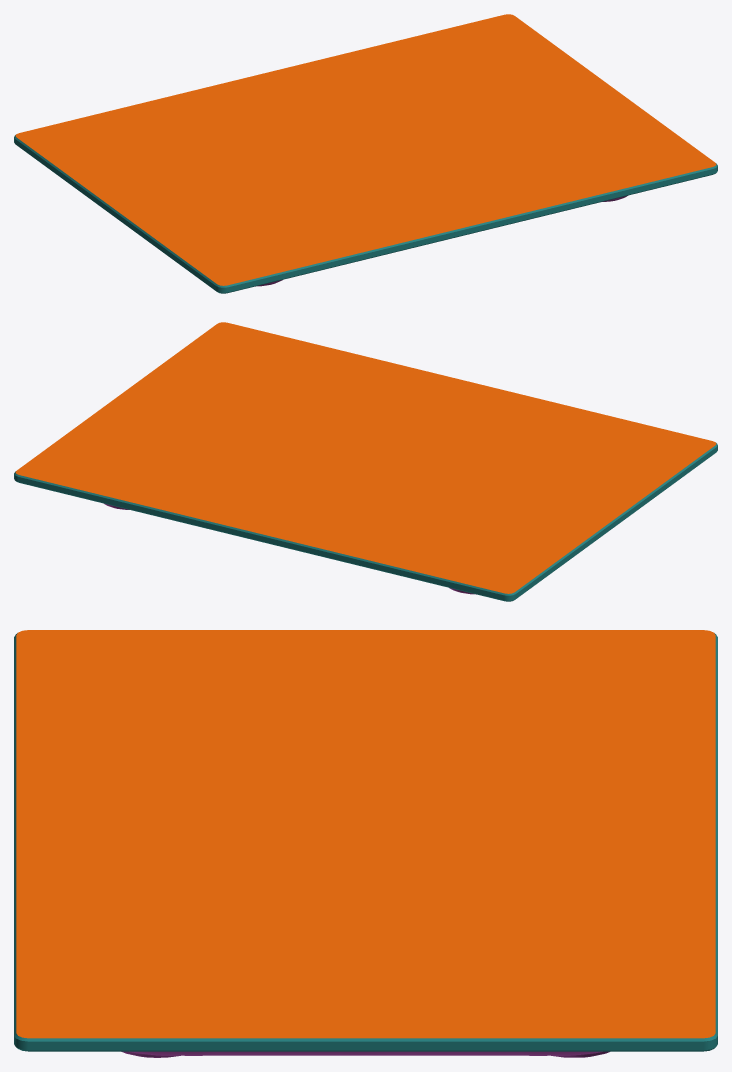
The picture shows the model from 3 angles, top to bottom: view 1: azimuth 30°, elevation 25°; view 2: azimuth 150°, elevation 25°; view 3: azimuth 270°, elevation 25°; orthographic projection. The views are drawn at different scales.
Parts seen in each view (by area): view 1: Object014; view 2: Object014; view 3: Object014.
Boxes of the visible parts, x1=… form: Object014: x1=14, y1=14, x2=717, y2=293; Object014: x1=14, y1=322, x2=717, y2=601; Object014: x1=14, y1=630, x2=717, y2=1057.
Bounding box in the file's own units: 28.53 × 2.2 × 20.69.
